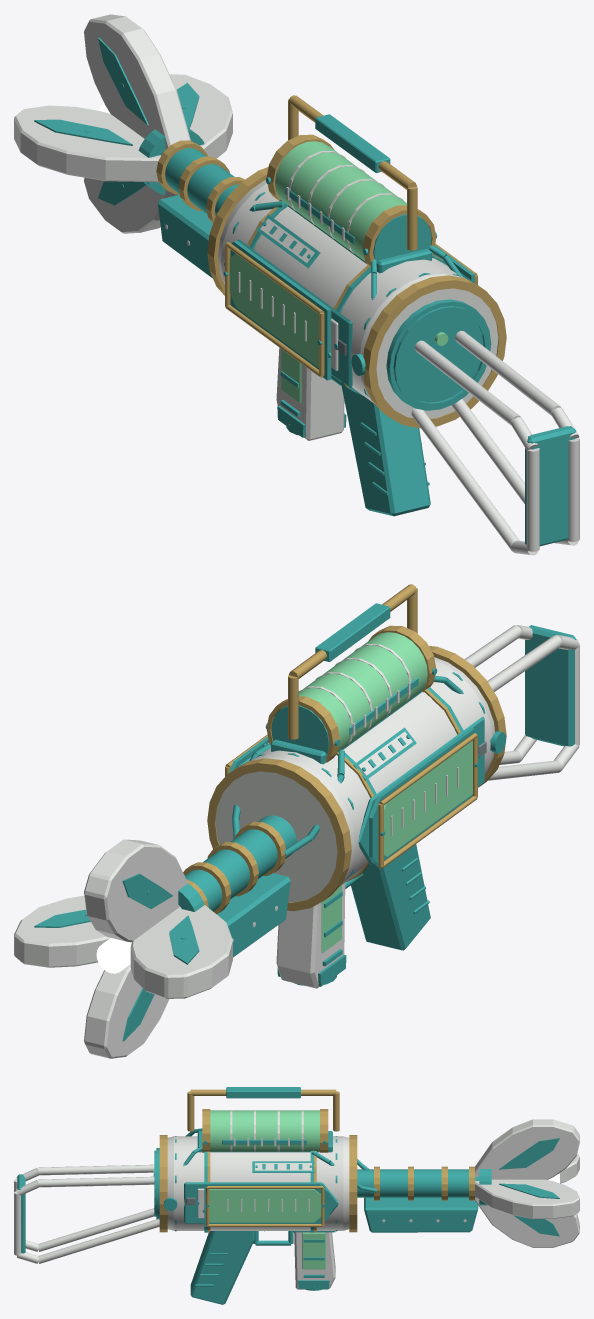
The model's file is medic_0.glb.
3 views of the same model, one above another, from view 1: azimuth 30°, elevation 25°; view 2: azimuth 150°, elevation 25°; view 3: azimuth 270°, elevation 25° (orthographic). The views are drawn at different scales.
Visible parts, largest first — view 1: Weapon_medic_v1; view 2: Weapon_medic_v1; view 3: Weapon_medic_v1.
Part boxes in pixels (<box>): Weapon_medic_v1: <box>14,14,579,555</box>; Weapon_medic_v1: <box>14,584,579,1058</box>; Weapon_medic_v1: <box>14,1087,579,1304</box>.
Bounding box in the file's own units: 0.2 × 0.3432 × 0.8356.
